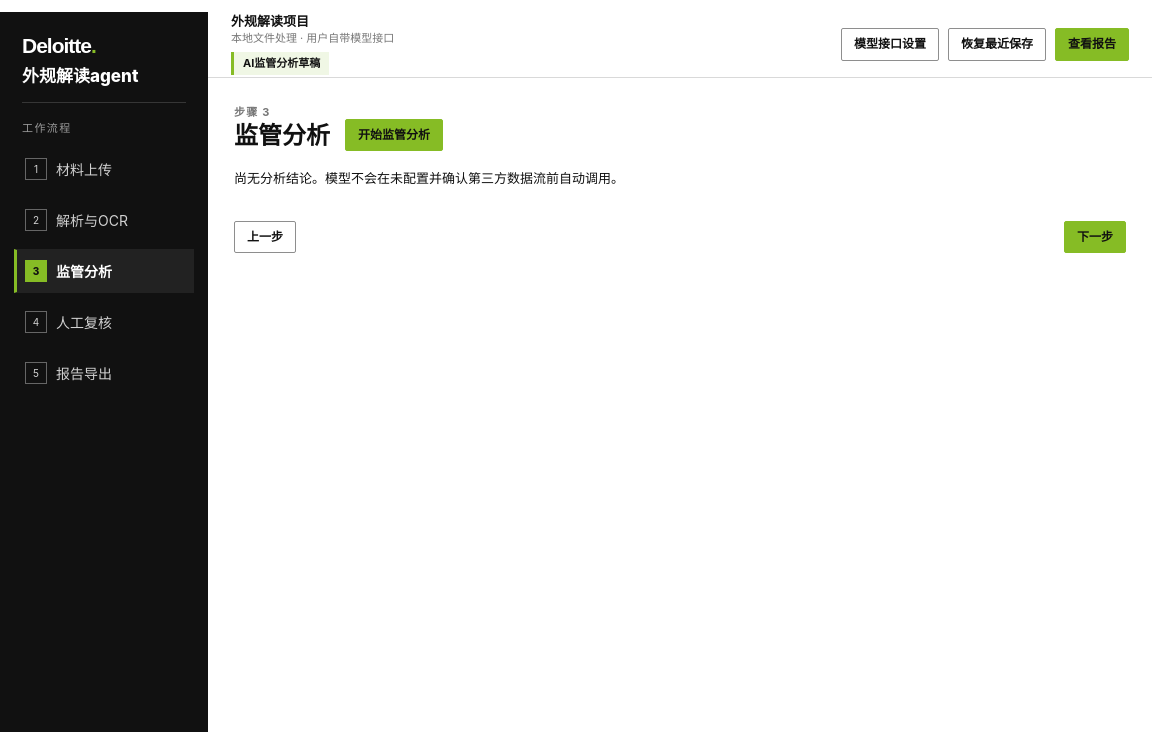
it: cancels a running analysis and preserves the saved version
Click the button "开始监管分析" at [394, 135], box [345,119,443,151]
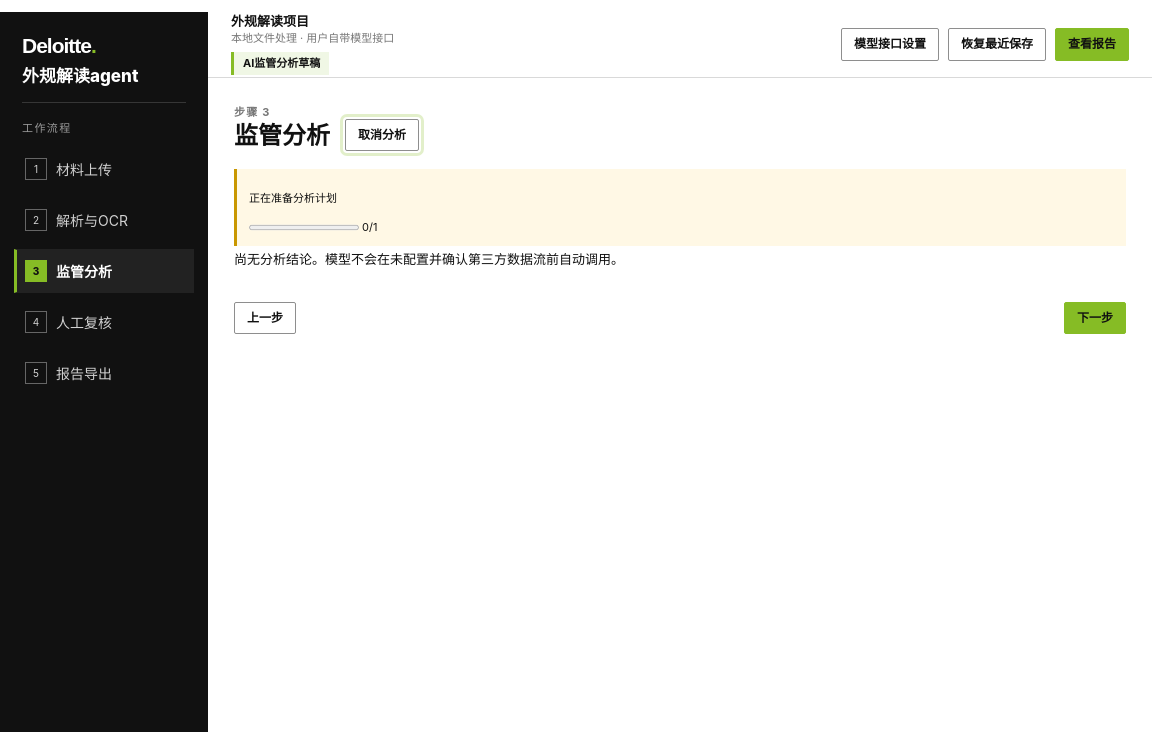
Click the button "取消分析" at [382, 135], box [345,119,419,151]
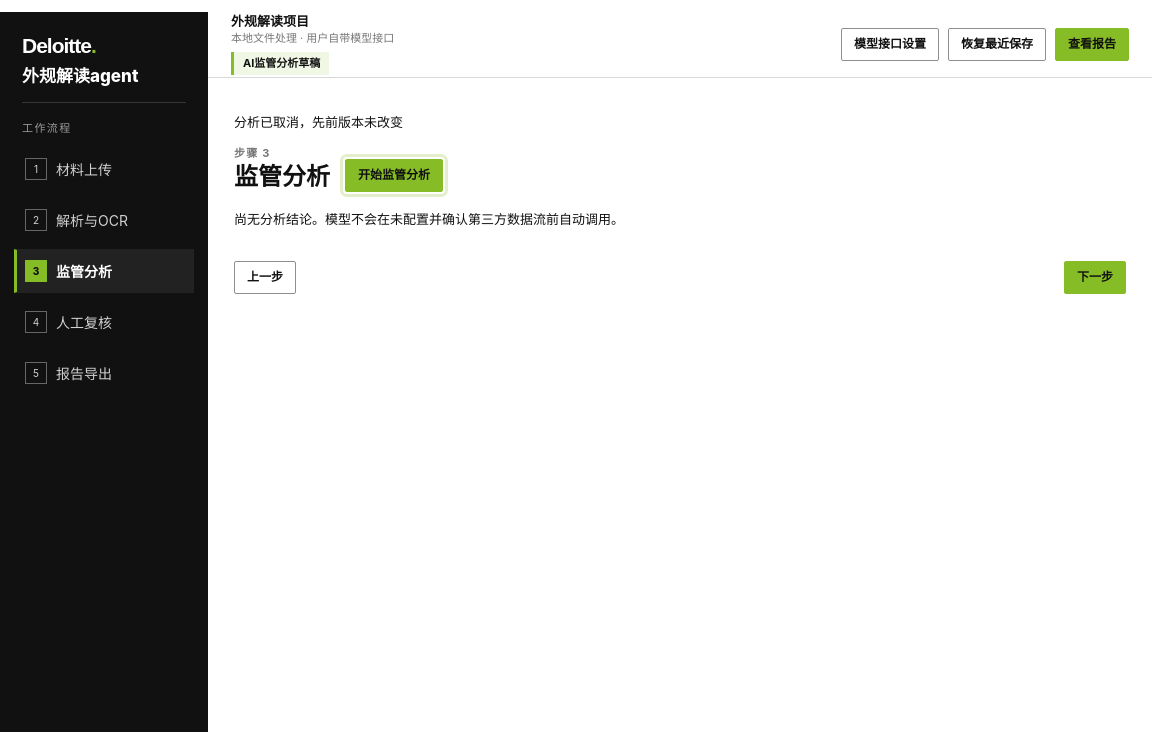
Result: the message shows "分析已取消" at [234,114,403,130]
